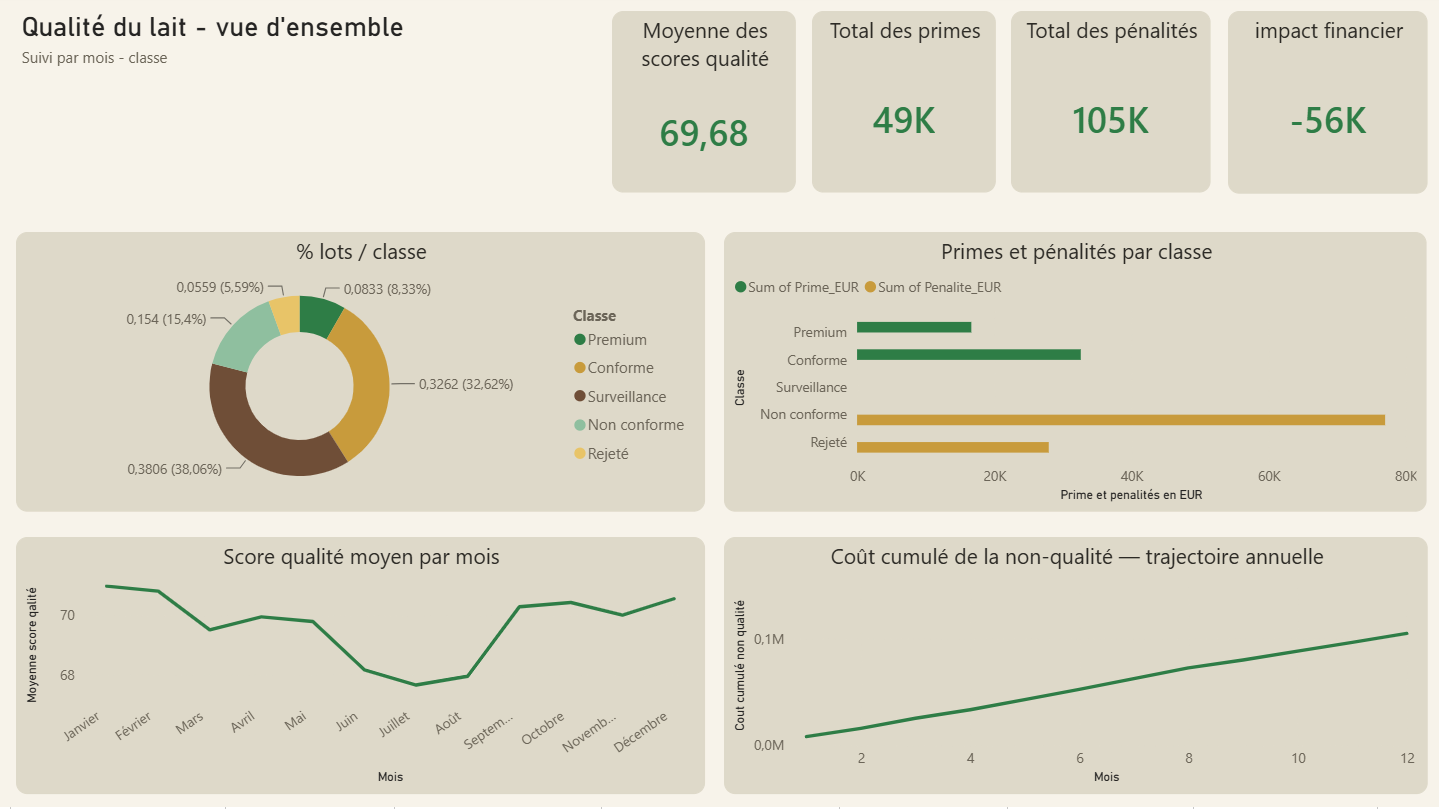

The dashboard page shown, as its layout file describes it:
{"tool":"powerbi","page":{"name":"Analyses qualité (vue syntèses)","canvas":[1280,720],"ordinal":2},"visuals":[{"type":"shape","box":[9.7,1,1270.2,189.8],"z":0},{"type":"cardVisual","title":"Moyenne des scores qualité","fields":{"Data":["Avg(Analyses_Qualite.Score_Qualite)"]},"box":[545.7,14.6,163.4,161.5],"z":1000},{"type":"donutChart","title":"% lots / classe ","fields":{"Y":["Analyses_Qualite.% lots / classe"],"Category":["Dimension_Classe.Classe"]},"box":[16.5,210.1,610.8,248],"z":2000},{"type":"cardVisual","title":"Total des primes","fields":{"Data":["Sum(Analyses_Qualite.Prime_EUR)"]},"box":[722.7,14.6,163.4,161.5],"z":3000},{"type":"cardVisual","title":"Total des pénalités","fields":{"Data":["Sum(Analyses_Qualite.Penalite_EUR)"]},"box":[898.7,14.6,177,161.5],"z":4000},{"type":"cardVisual","title":"impact financier","fields":{"Data":["Analyses_Qualite.Impact_Financier_Net"]},"box":[1091.3,14.6,177,162.4],"z":5000},{"type":"clusteredBarChart","title":"Primes et pénalités par classe","fields":{"Y":["Sum(Analyses_Qualite.Prime_EUR)","Sum(Analyses_Qualite.Penalite_EUR)"],"Category":["Dimension_Classe.Classe"]},"box":[644.9,210.1,623.5,248],"z":6000},{"type":"lineChart","title":"Score qualité moyen par mois","fields":{"Y":["Avg(Analyses_Qualite.Score_Qualite)"],"Category":["Calendrier.Nom_Mois"]},"box":[16.5,480.5,610.8,227.6],"z":7000},{"type":"lineChart","title":"Coût cumulé de la non-qualité — trajectoire annuelle","fields":{"Category":["Calendrier.Mois"],"Y":["Analyses_Qualite.Cout_Non_Qualite_Cumule"]},"box":[644.9,480.5,624.4,227.6],"z":8000},{"type":"textbox","box":[16.5,14.6,496,93.4],"z":9000}]}

Visuals, with their boxes in screenshot pixels (x1, y1, x2, y2), scaled from the page's 1280x720 canvas onto the 1439x809 screenshot:
shape: BBox(11, 1, 1438, 214)
"Moyenne des scores qualité" cardVisual: BBox(613, 16, 797, 198)
"% lots / classe " donutChart: BBox(19, 236, 705, 515)
"Total des primes" cardVisual: BBox(812, 16, 996, 198)
"Total des pénalités" cardVisual: BBox(1010, 16, 1209, 198)
"impact financier" cardVisual: BBox(1227, 16, 1426, 199)
"Primes et pénalités par classe" clusteredBarChart: BBox(725, 236, 1426, 515)
"Score qualité moyen par mois" lineChart: BBox(19, 540, 705, 796)
"Coût cumulé de la non-qualité — trajectoire annuelle" lineChart: BBox(725, 540, 1427, 796)
textbox: BBox(19, 16, 576, 121)
